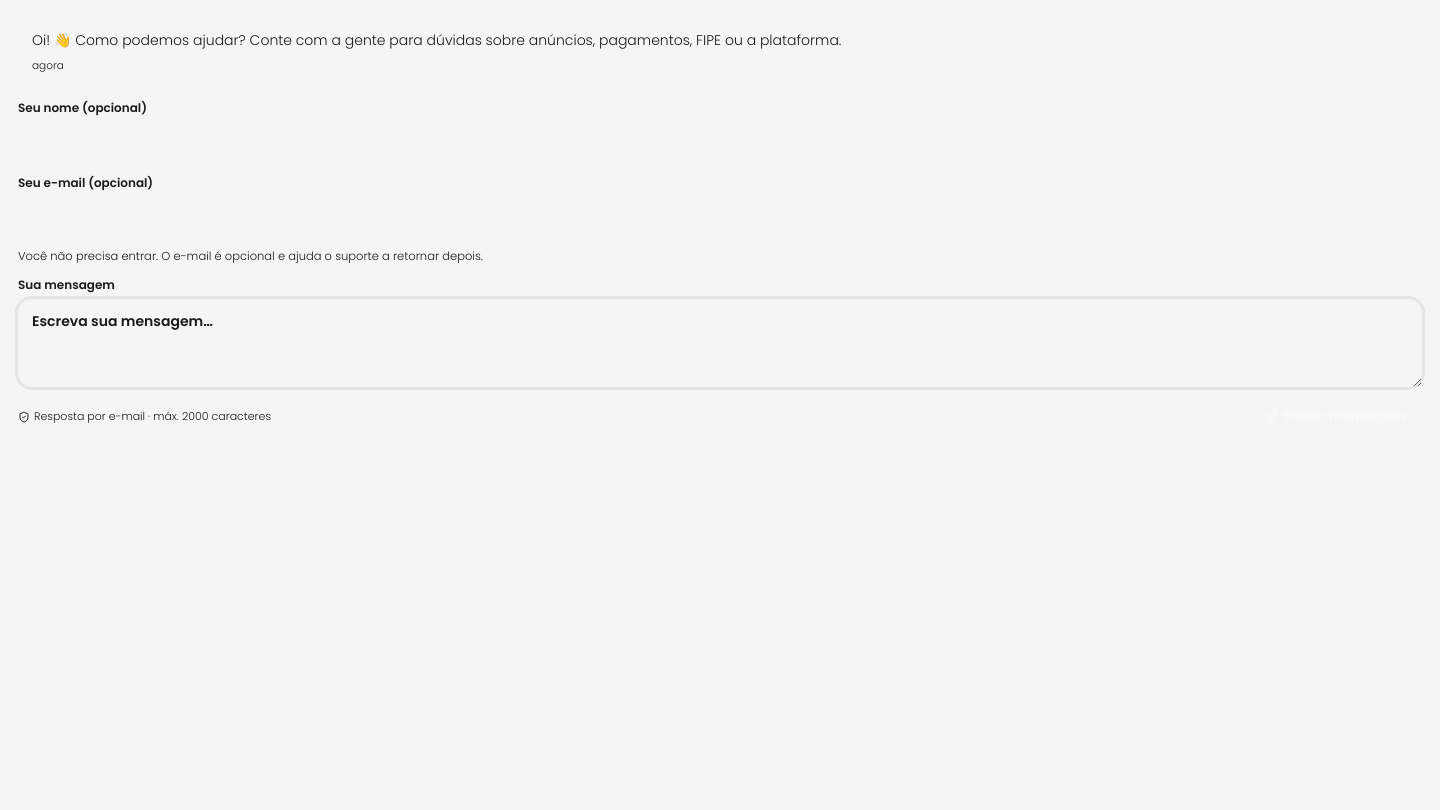
it: SupportConversation › submits the draft when Enter is pressed without Shift
Type "Posso enviar pelo teclado?" into the text box labelled "Sua mensagem". click: (720, 343)
box: x1=18 y1=299 x2=1422 y2=387
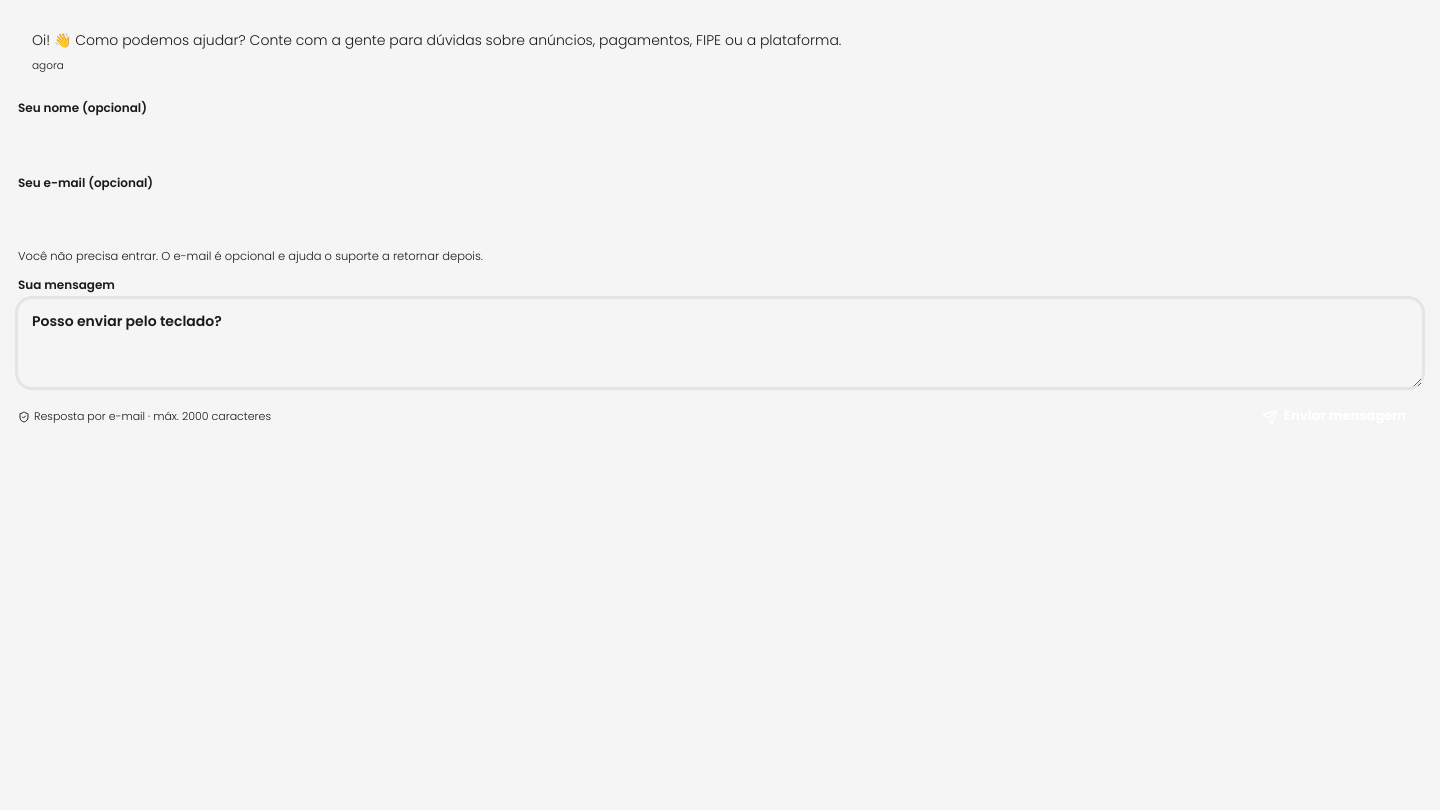
Press Enter in the text box labelled "Sua mensagem", box x1=18 y1=299 x2=1422 y2=387
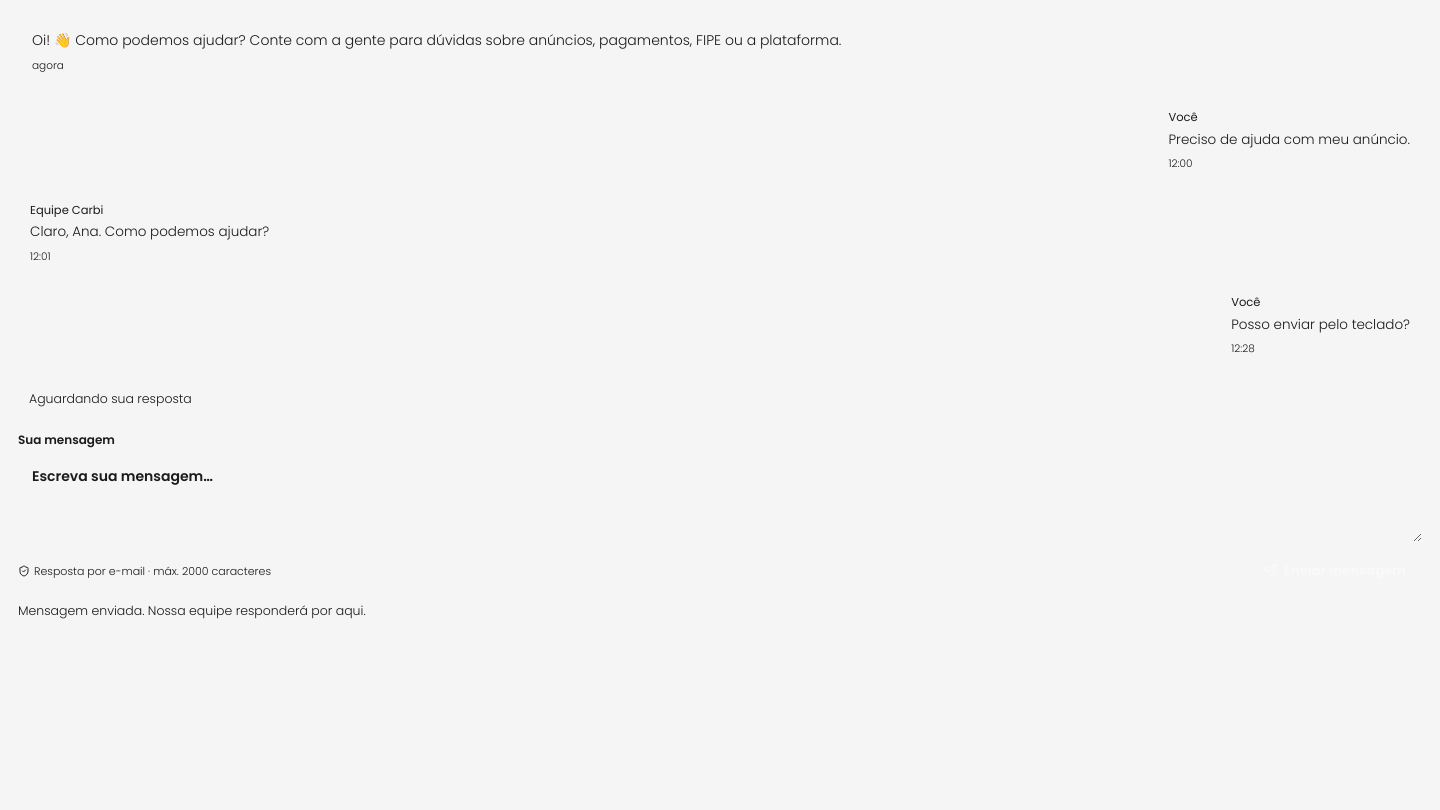
Check: the text "Mensagem enviada. Nossa equipe responderá por aqui." is shown, box x1=18 y1=602 x2=366 y2=619
